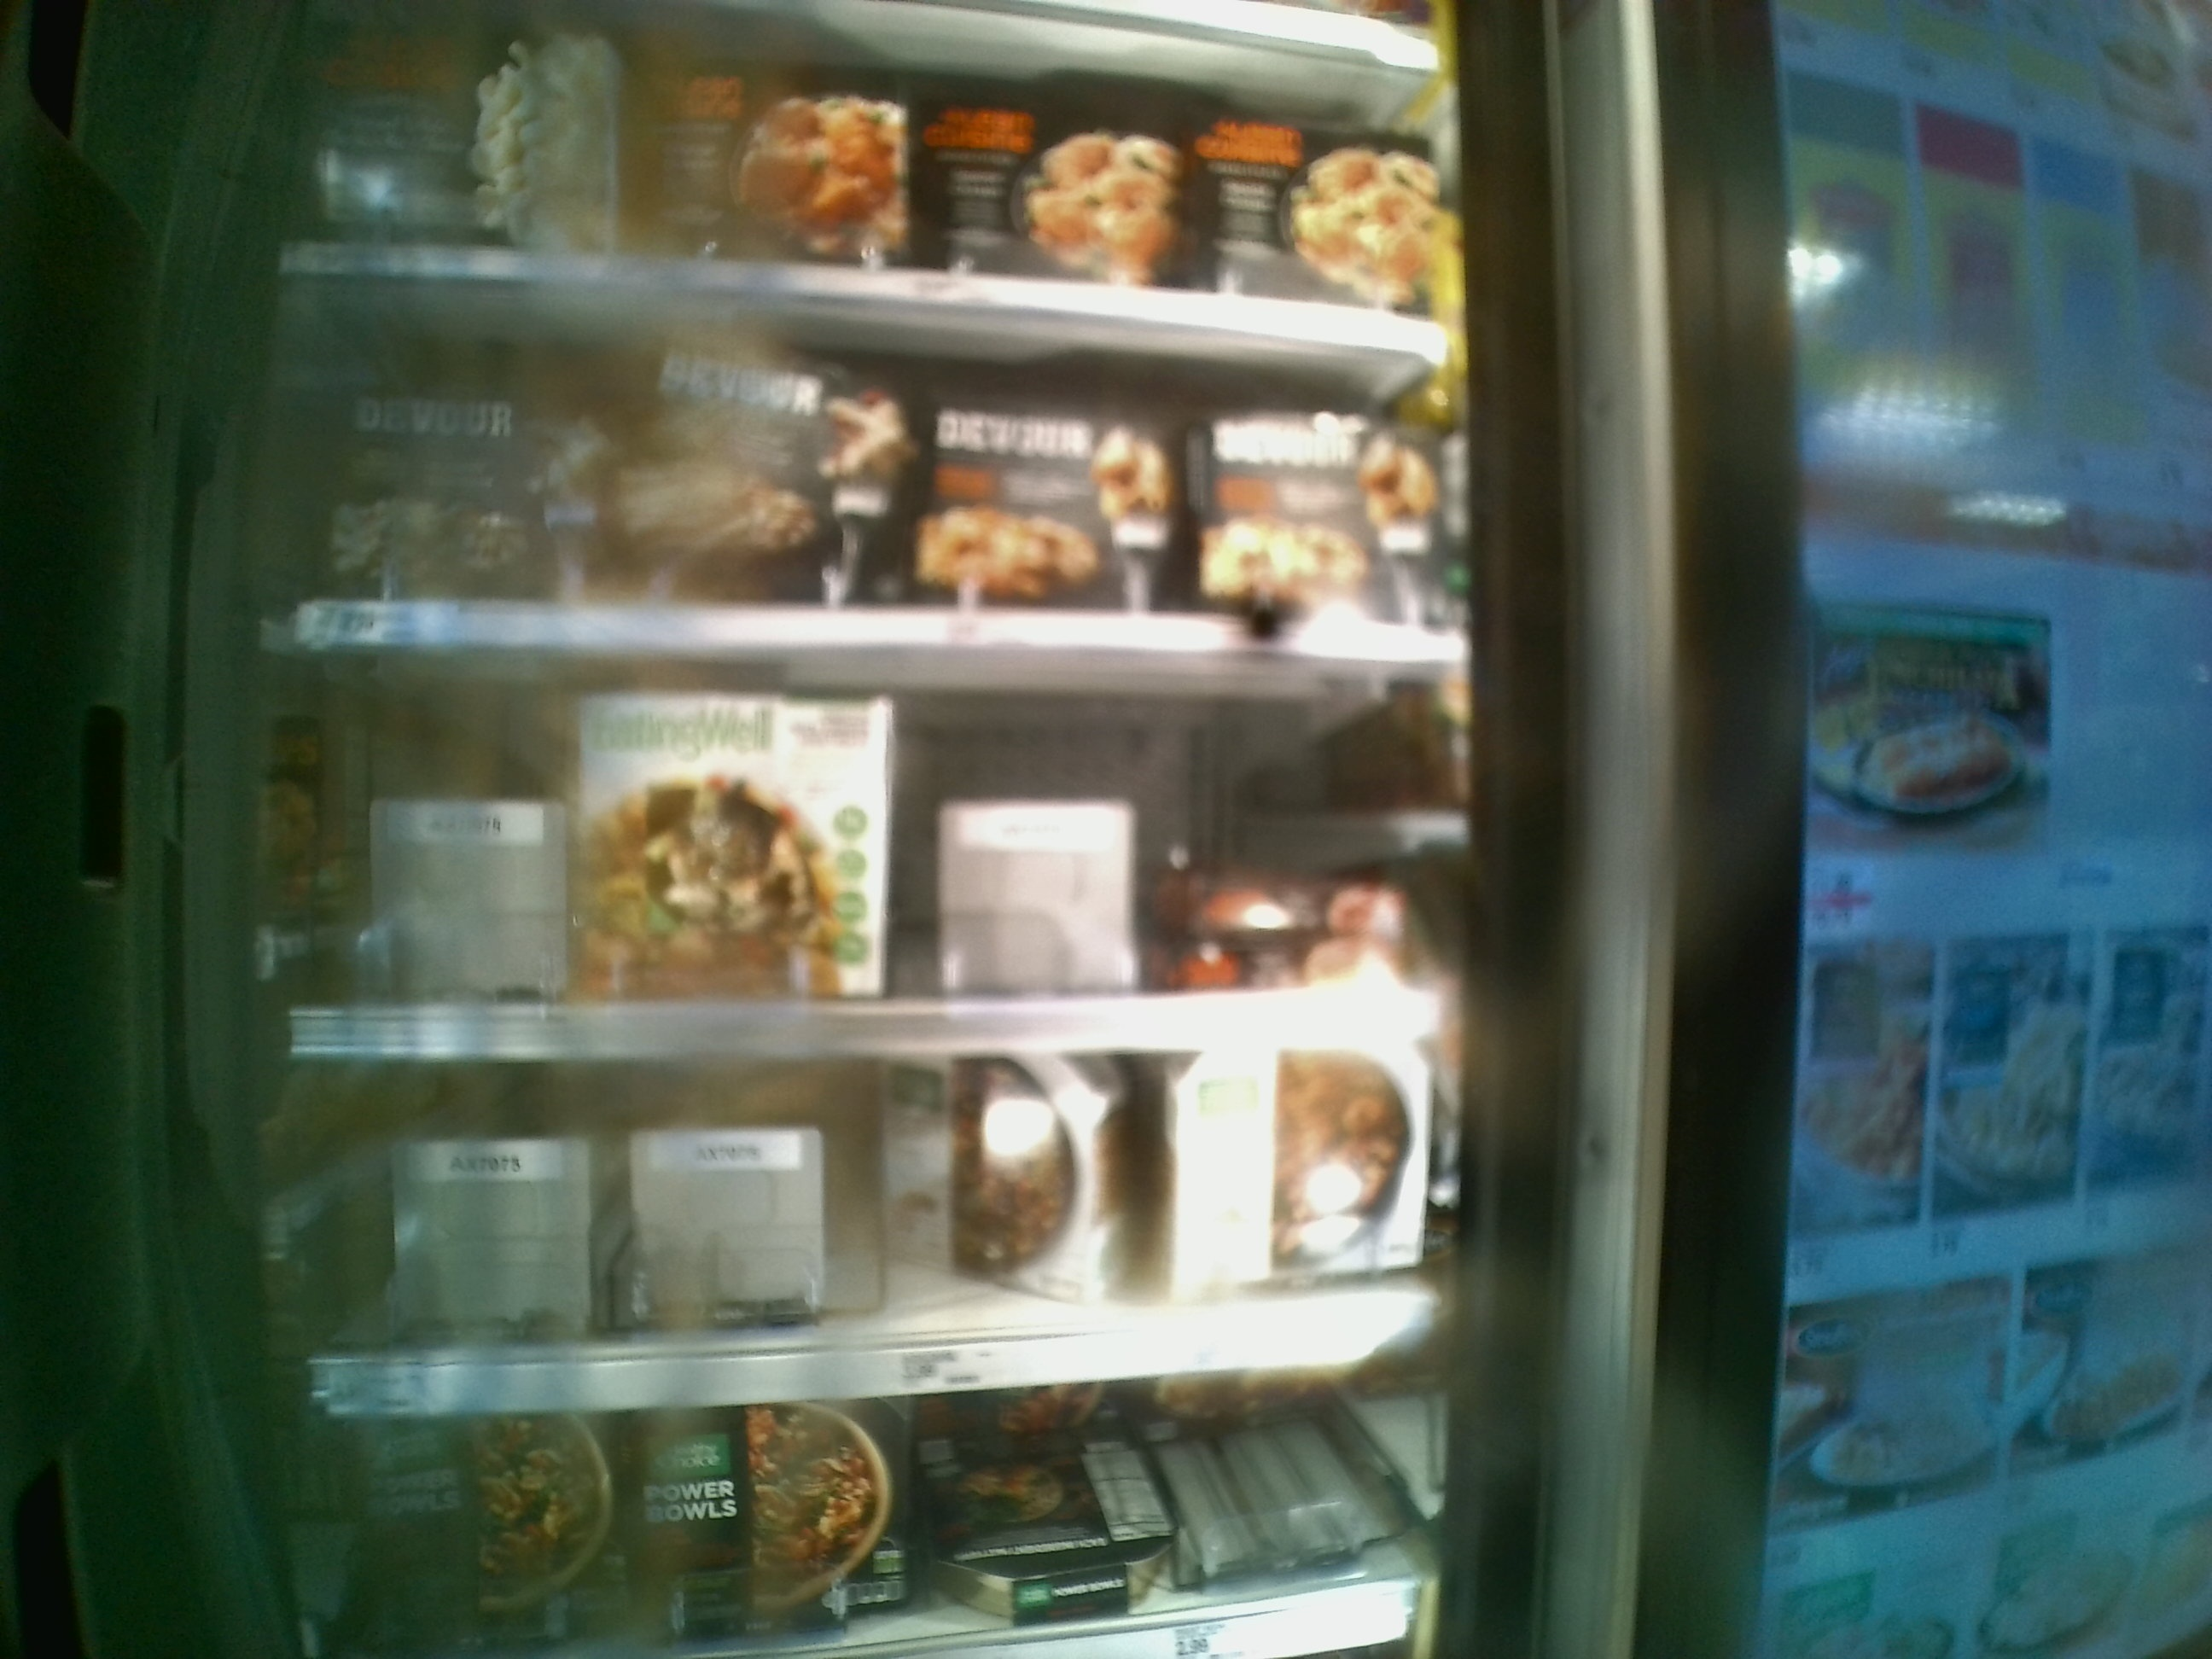shelf: (280, 641, 1456, 1049), (280, 1047, 1453, 1406)
